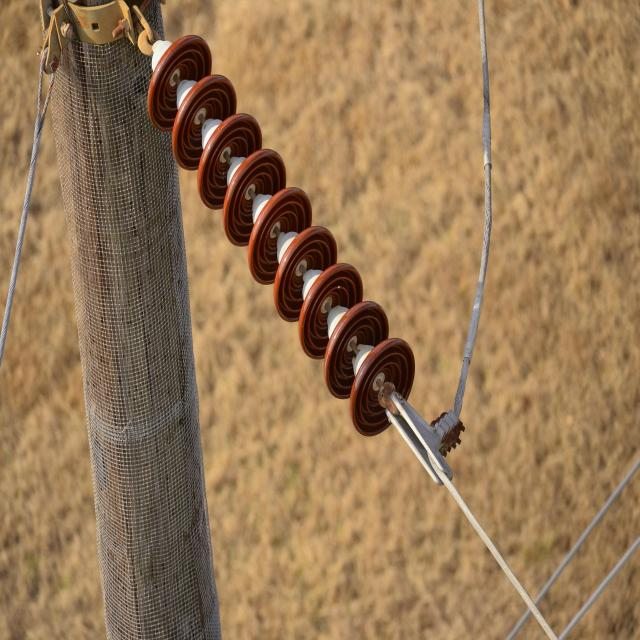insulator: (147, 32, 415, 436)
